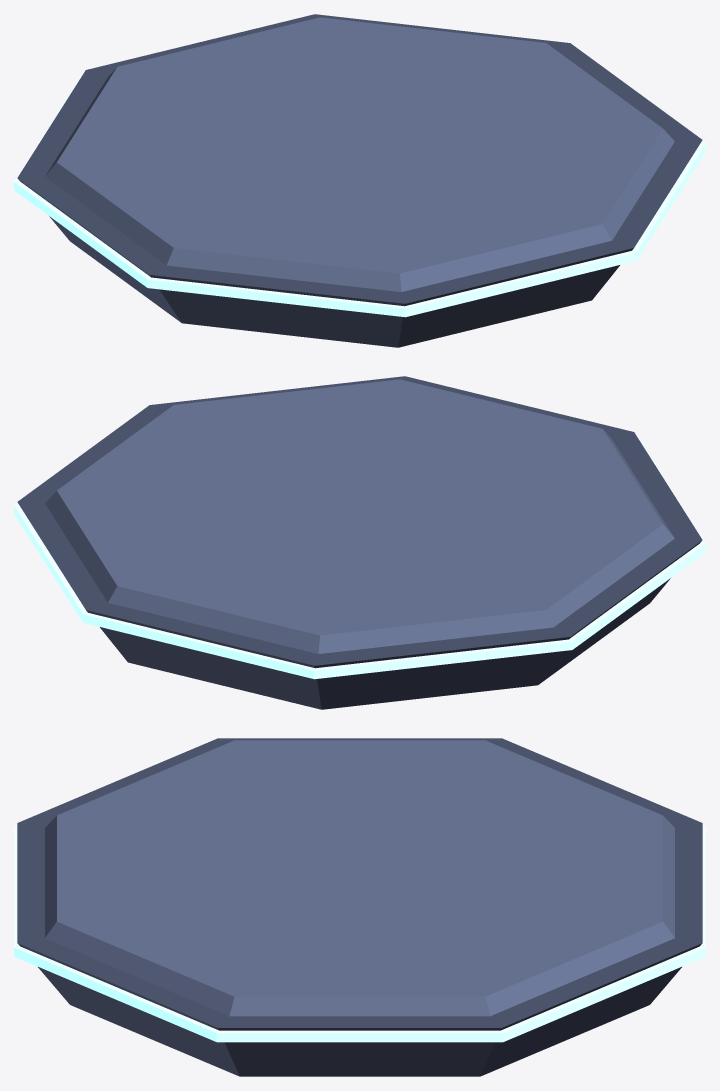
Rendered from EnvPlatform.fbx.
3 views of the same model, one above another, from view 1: azimuth 30°, elevation 25°; view 2: azimuth 150°, elevation 25°; view 3: azimuth 270°, elevation 25° (orthographic). The views are drawn at different scales.
Visible parts, largest first — view 1: EnvPlatform; view 2: EnvPlatform; view 3: EnvPlatform.
Part boxes in pixels (bbox=[...]): EnvPlatform: bbox=[14, 14, 705, 347]; EnvPlatform: bbox=[14, 376, 705, 709]; EnvPlatform: bbox=[14, 738, 705, 1076].
Bounding box in the file's own units: 9.7 × 1.63 × 9.7.
